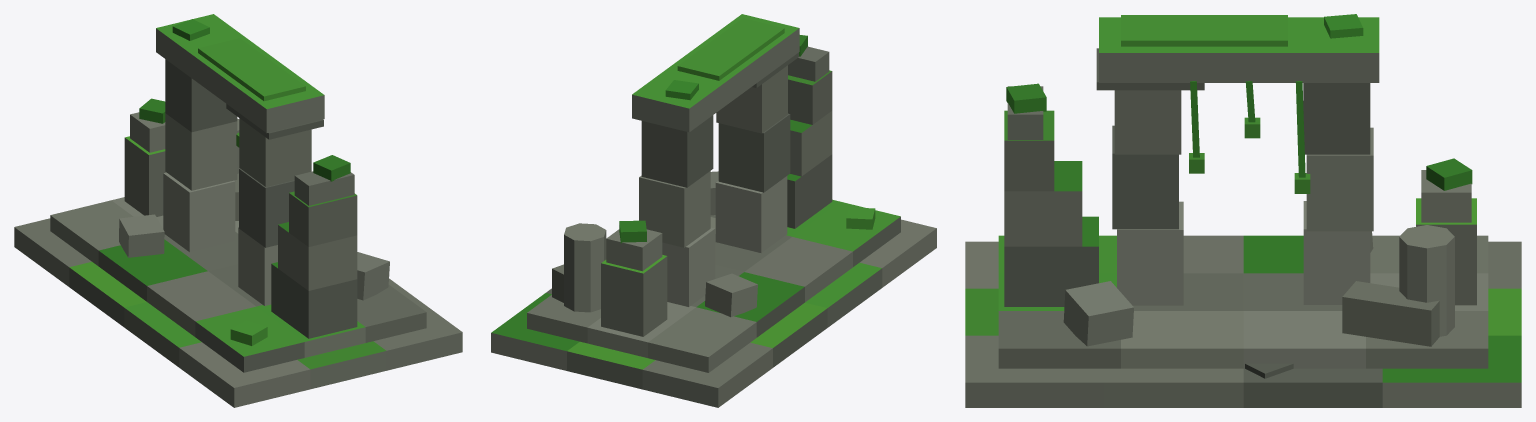
File: jungle_ruin.glb
3 views of the same model, side by side, from view 1: azimuth 30°, elevation 25°; view 2: azimuth 150°, elevation 25°; view 3: azimuth 270°, elevation 25° (orthographic). The views are drawn at different scales.
Parts seen in each view (by area): view 1: jungle_ruin; view 2: jungle_ruin; view 3: jungle_ruin.
Part boxes in pixels (box(x1,y1,x2,y2)): jungle_ruin: box(14, 14, 462, 407); jungle_ruin: box(491, 14, 936, 407); jungle_ruin: box(965, 14, 1521, 407).
Bounding box in the file's own units: 3 × 3.08 × 5.
